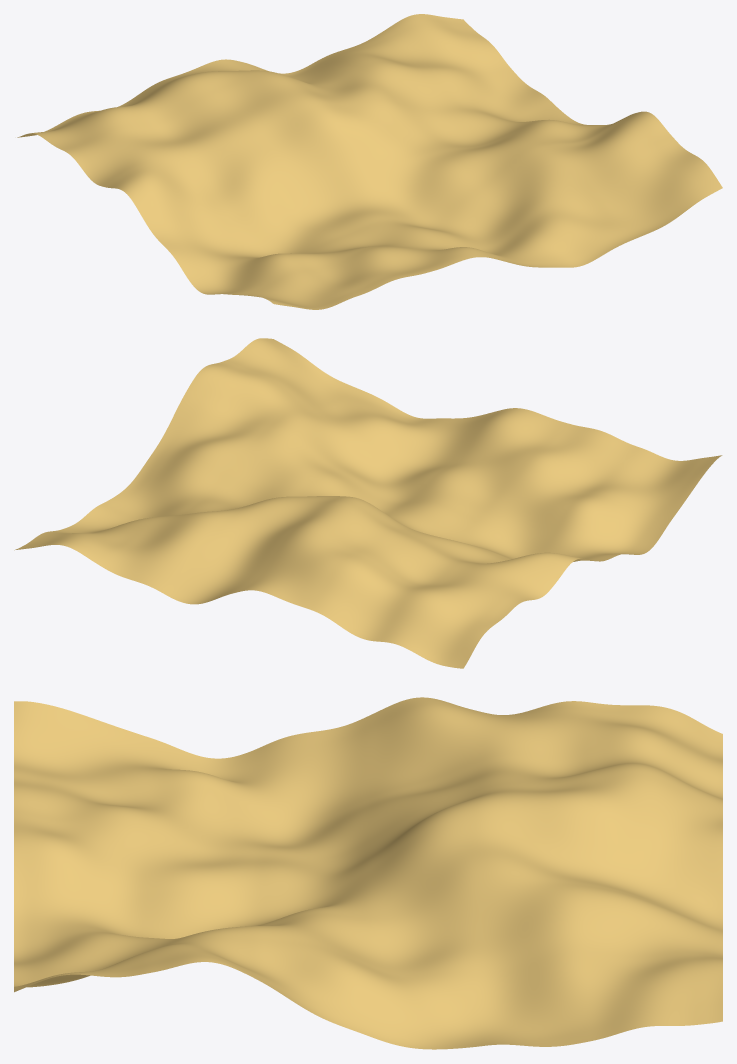
File: test_desert.glb
3 views of the same model, one above another, from view 1: azimuth 30°, elevation 25°; view 2: azimuth 150°, elevation 25°; view 3: azimuth 270°, elevation 25° (orthographic). The views are drawn at different scales.
Visible parts, largest first — view 1: Plane; view 2: Plane; view 3: Plane.
Part boxes in pixels (box(x1,y1,x2,y2)): Plane: box(17, 14, 722, 309); Plane: box(14, 338, 722, 668); Plane: box(14, 697, 722, 1049).
Bounding box in the file's own units: 8.77 × 1.47 × 8.77.
